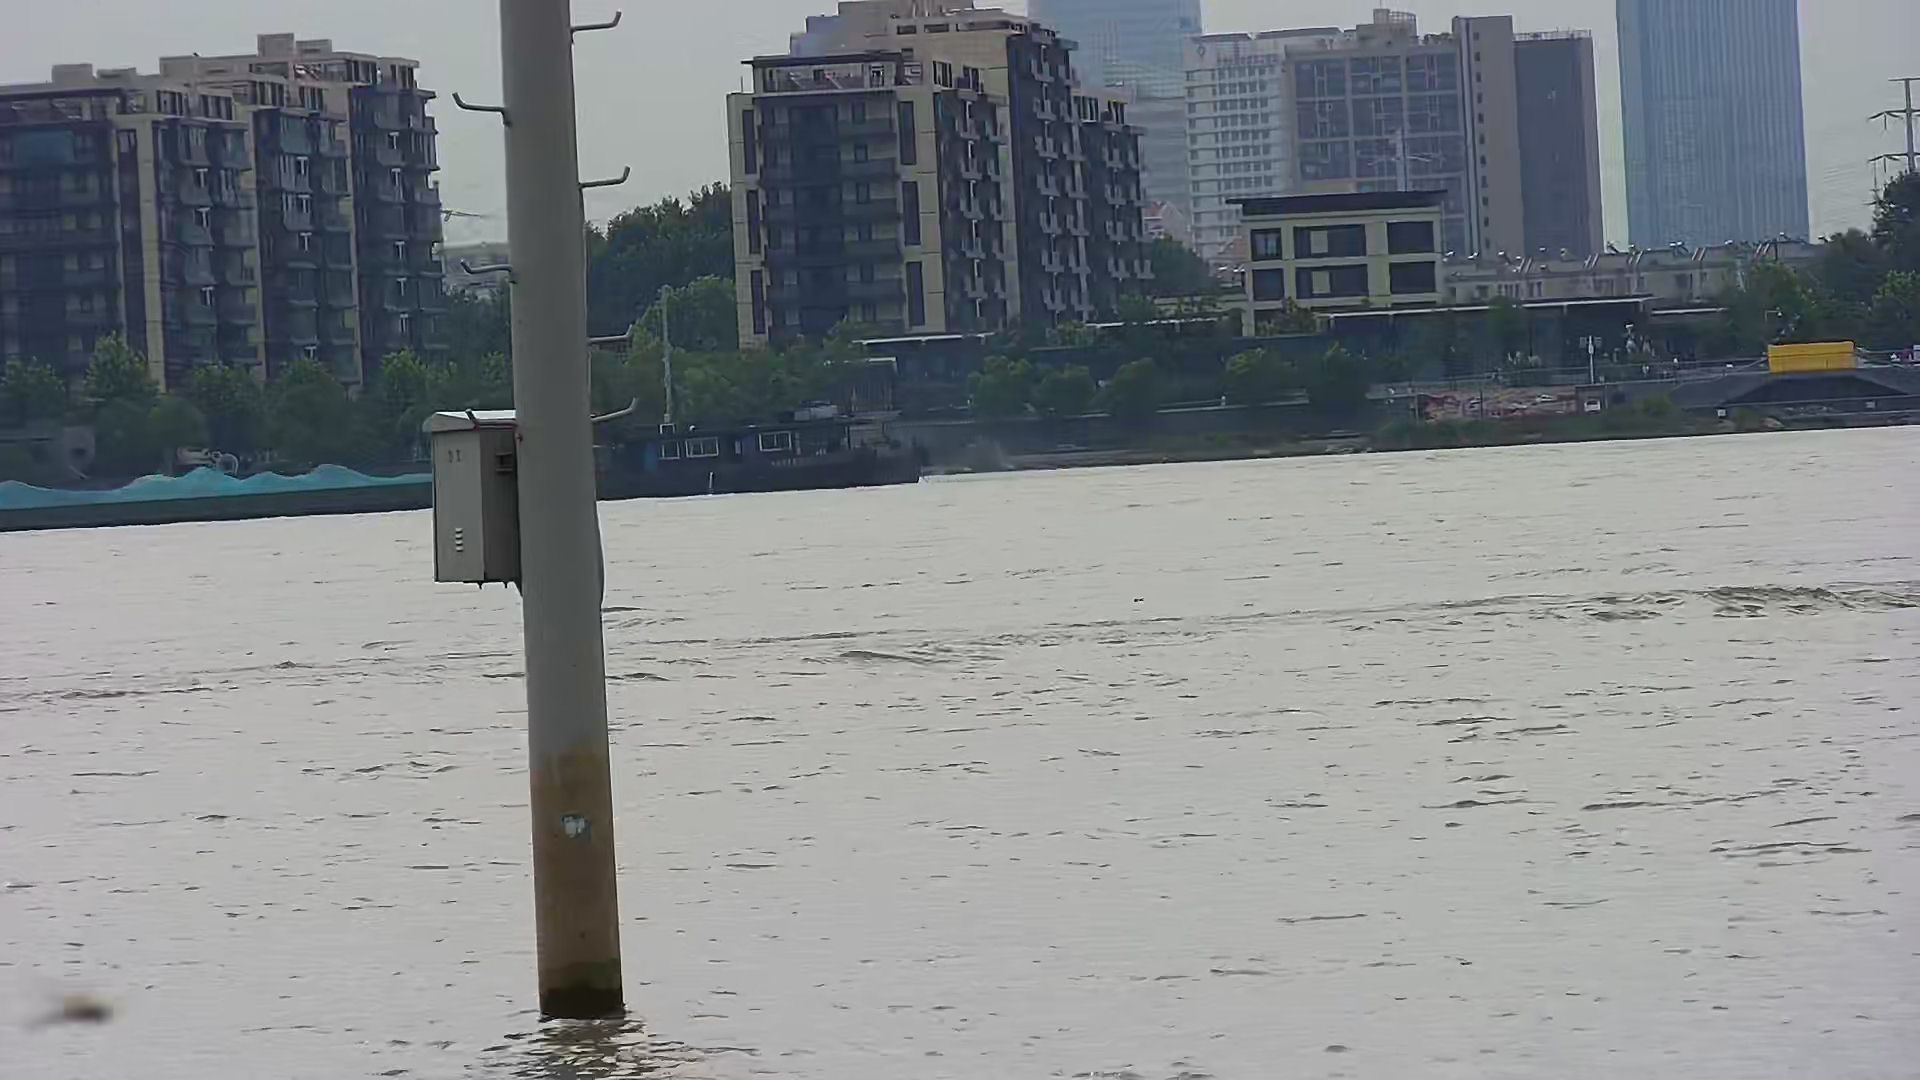mast: (421, 1, 622, 1023)
